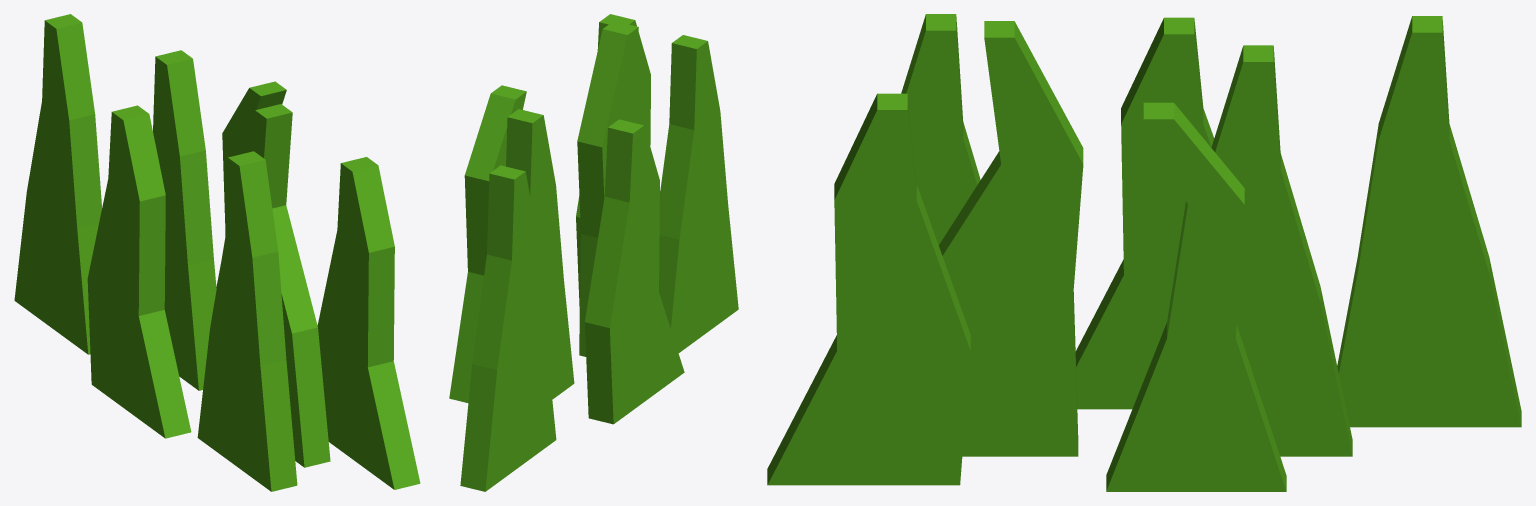
File: Grass_e_02.fbx
3 views of the same model, side by side, from view 1: azimuth 30°, elevation 25°; view 2: azimuth 150°, elevation 25°; view 3: azimuth 270°, elevation 25° (orthographic). The views are drawn at different scales.
Visible parts, largest first — view 1: Grass_e_02; view 2: Grass_e_02; view 3: Grass_e_02.
Part boxes in pixels (box(x1,y1,x2,y2)): Grass_e_02: box(14, 14, 420, 491); Grass_e_02: box(449, 14, 738, 491); Grass_e_02: box(767, 14, 1521, 491).
Size of the model in its own units: 2.46 by 4.84 by 7.89.
